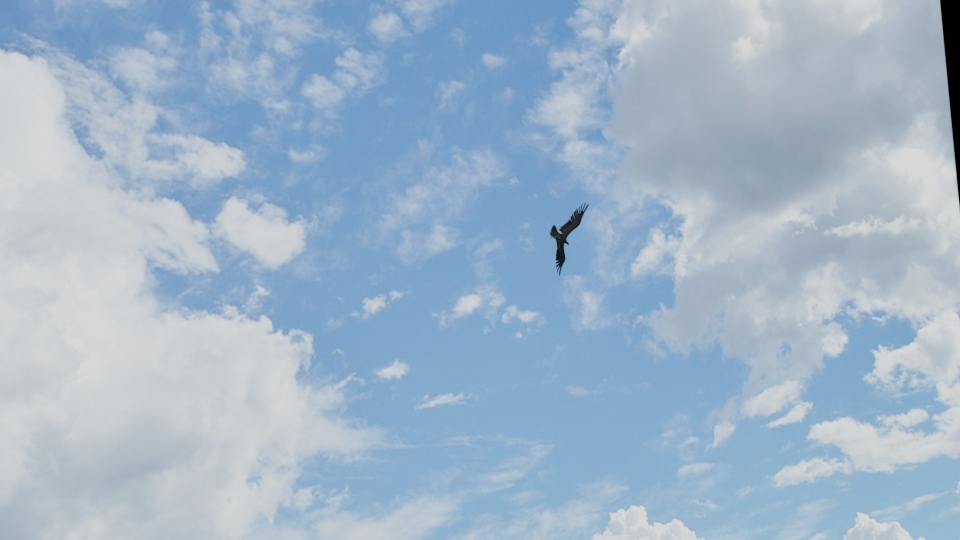bird: (548, 203, 588, 276)
